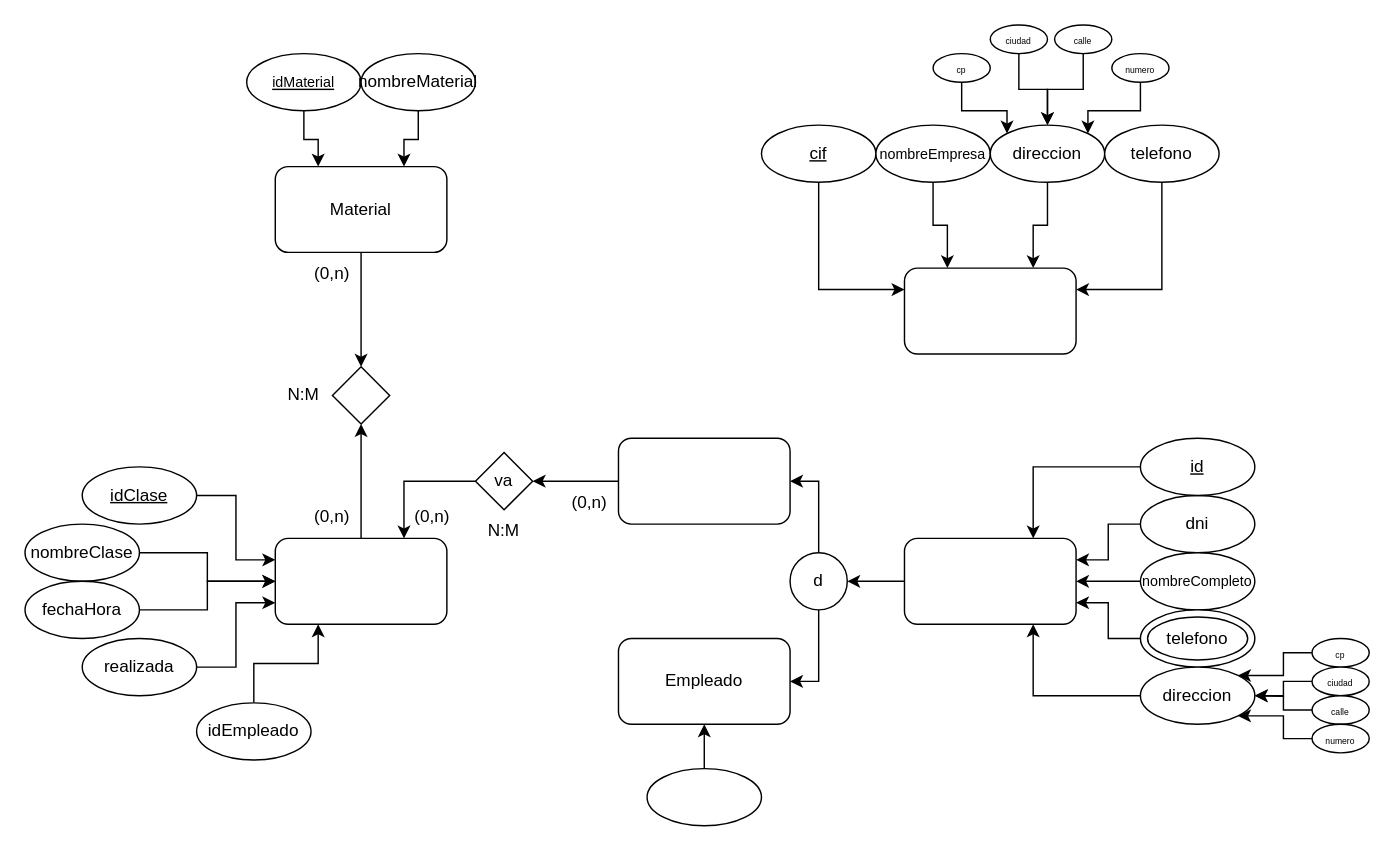
This 1394x851 diagram has some shape labels left out. The box of each missing label's shape, as (x1, y1, x2, y2) in pixels:
Clase: (274, 537, 447, 624)
Cliente: (617, 437, 790, 524)
Información general: (903, 267, 1076, 354)
Personas: (903, 537, 1076, 624)
salario: (646, 767, 761, 826)
usa: (331, 365, 390, 424)
